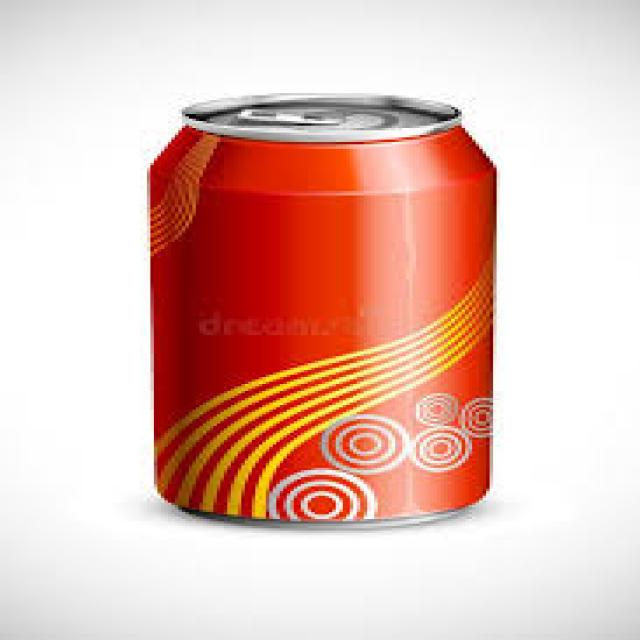Cans: (136, 81, 514, 533)
